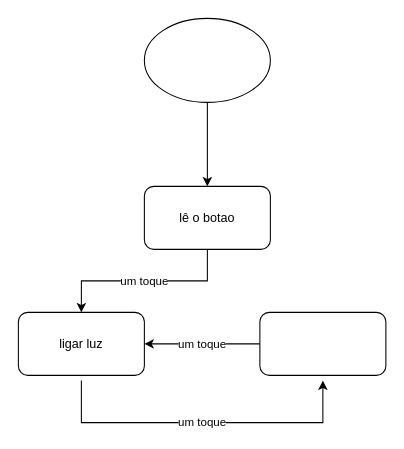
This 404x449 diagram has some shape labels left out. Each missing label, with the centre of its shape:
"Desligar luz" goes at point 322,343.
"Liga o Arduíno" goes at point 206,59.
